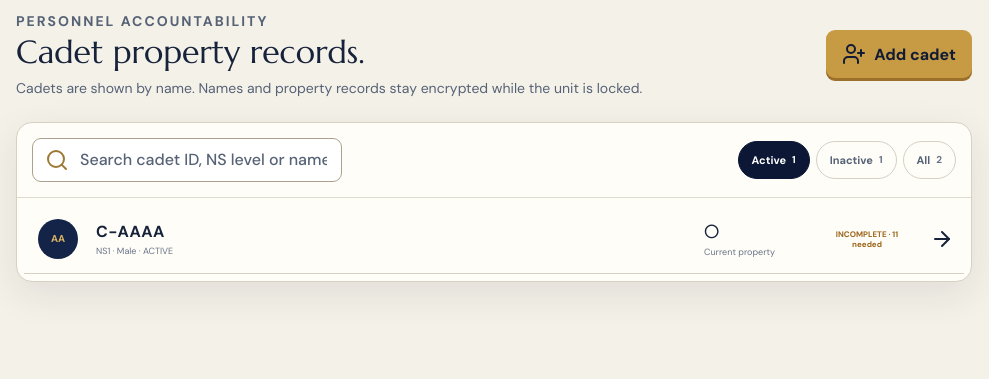
Scenario: CadetsView privacy and records › filters by status with ACTIVE / INACTIVE / ALL chips
The width and height of the screenshot is (989, 379).
Expected: the button "C-AAAA" is shown, x1=24 y1=205 x2=964 y2=274
Expected: the button "C-BBBB" is not shown
Click the button "Inactive 1". click: (856, 160)
box: x1=816 y1=141 x2=896 y2=179
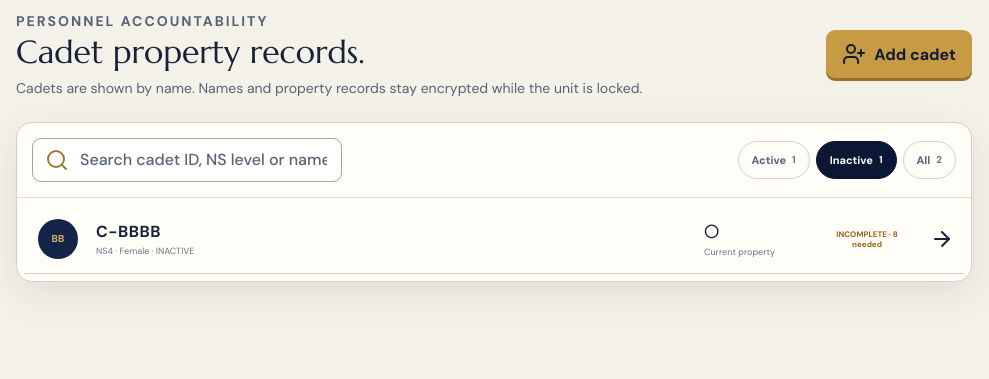
Now the button "C-BBBB" is shown, box x1=24 y1=205 x2=964 y2=274
Now the button "C-AAAA" is gone
Click the button "All 2". click: (929, 160)
box: x1=902 y1=141 x2=956 y2=179
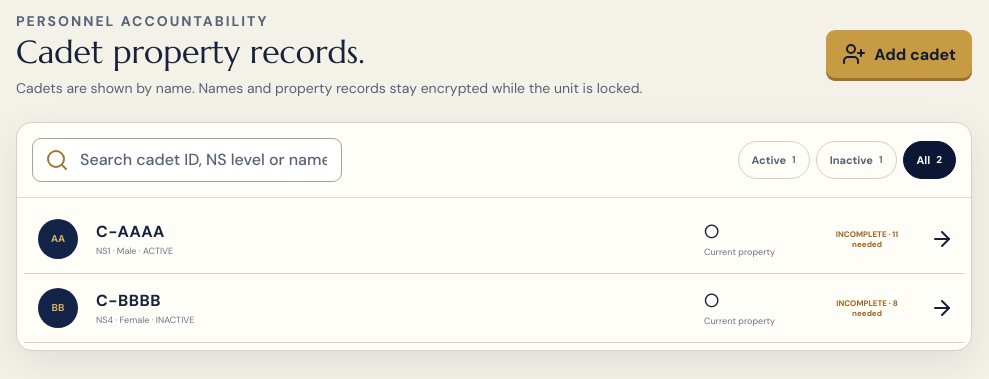
Now the button "C-BBBB" is shown, box x1=24 y1=274 x2=964 y2=343
Now the button "C-AAAA" is shown, box x1=24 y1=205 x2=964 y2=274
